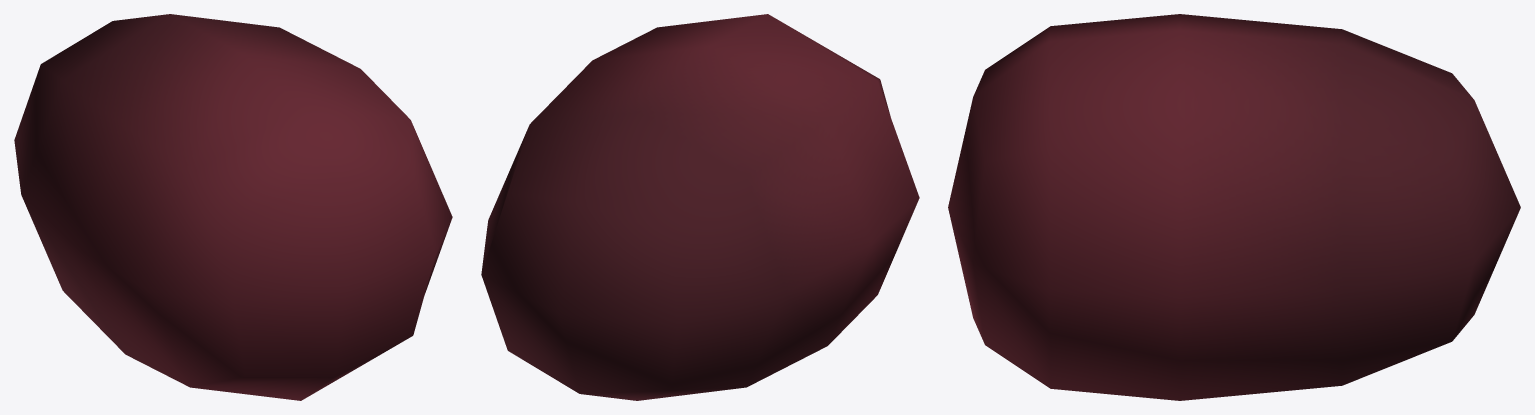
File: Grape-Single.fbx
3 renders of one model, left to right at view 1: azimuth 30°, elevation 25°; view 2: azimuth 150°, elevation 25°; view 3: azimuth 270°, elevation 25°, orthographic. The views are drawn at different scales.
Parts seen in each view (by area): view 1: Grape-Single; view 2: Grape-Single; view 3: Grape-Single.
Boxes of the visible parts, x1,y1,x2,y2 form: Grape-Single: (14,14,452,400); Grape-Single: (481,14,919,400); Grape-Single: (948,14,1520,400).
Bounding box in the file's own units: 135 × 125 × 183.
